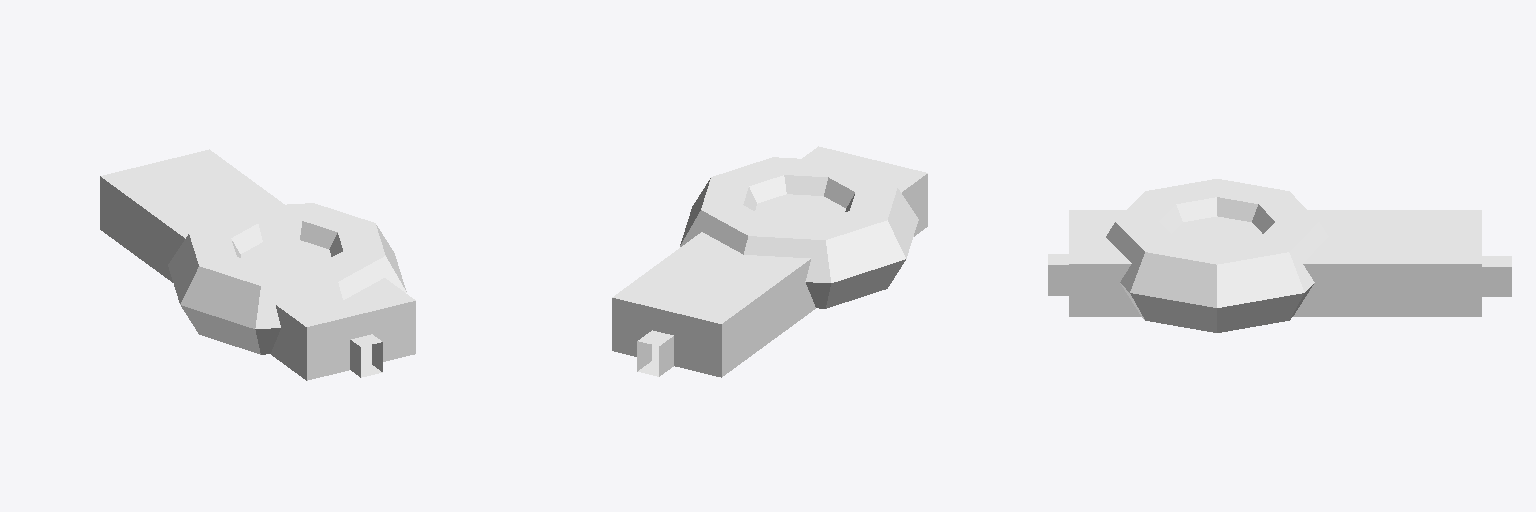
Rendered from room_base10.obj.
3 views of the same model, side by side, from view 1: azimuth 30°, elevation 25°; view 2: azimuth 150°, elevation 25°; view 3: azimuth 270°, elevation 25° (orthographic).
Parts seen in each view (by area): view 1: room_base10; view 2: room_base10; view 3: room_base10.
Boxes of the visible parts, box(x1,y1,x2,y2) form: room_base10: box(100, 149, 415, 380); room_base10: box(612, 146, 927, 377); room_base10: box(1048, 179, 1511, 332).
Size of the model in its own units: 29.35 by 8.99 by 55.